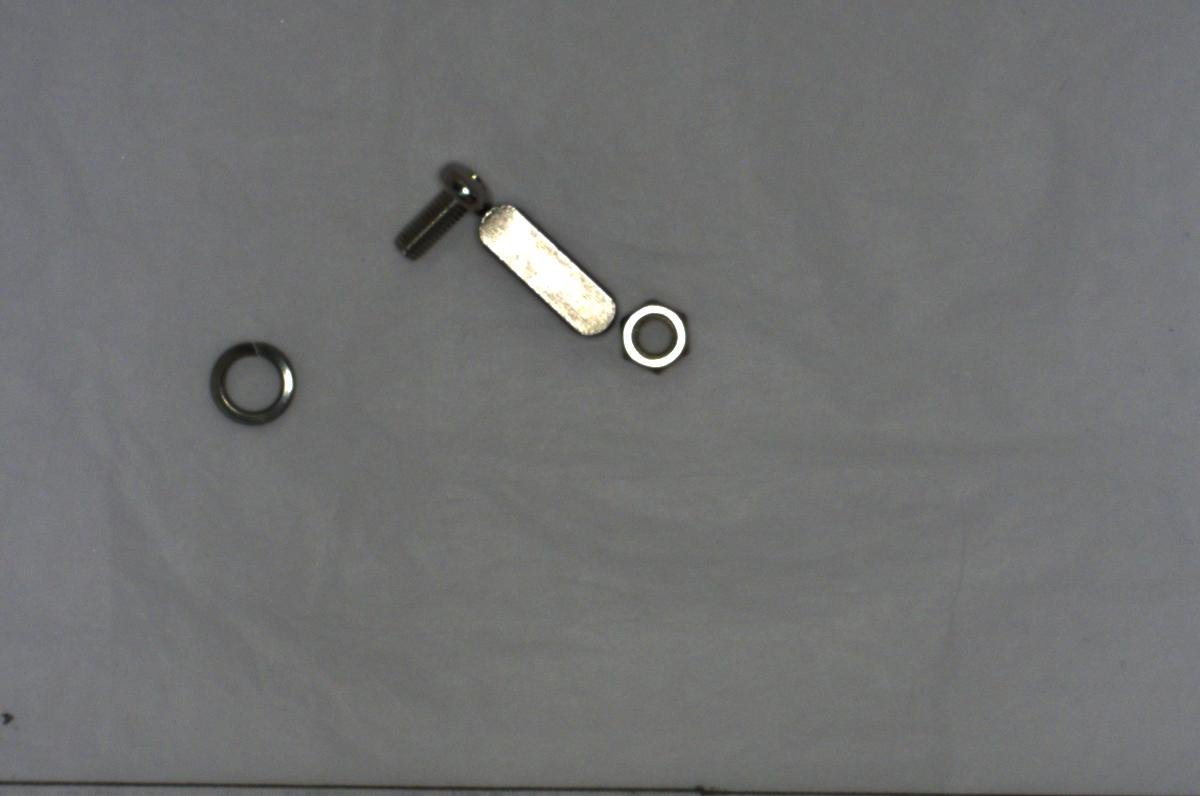Hexagon nut: (613, 292, 697, 376)
Keybar: (474, 196, 619, 338)
Round head screw: (385, 150, 493, 259)
Spring washer: (198, 334, 302, 432)
